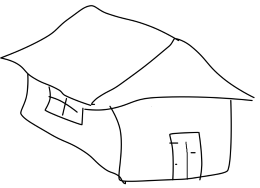big_house: (0, 0, 260, 187)
closed_window: (42, 83, 88, 127)
door: (166, 125, 209, 185)
roof: (3, 3, 251, 109)
wall: (109, 91, 238, 186)
